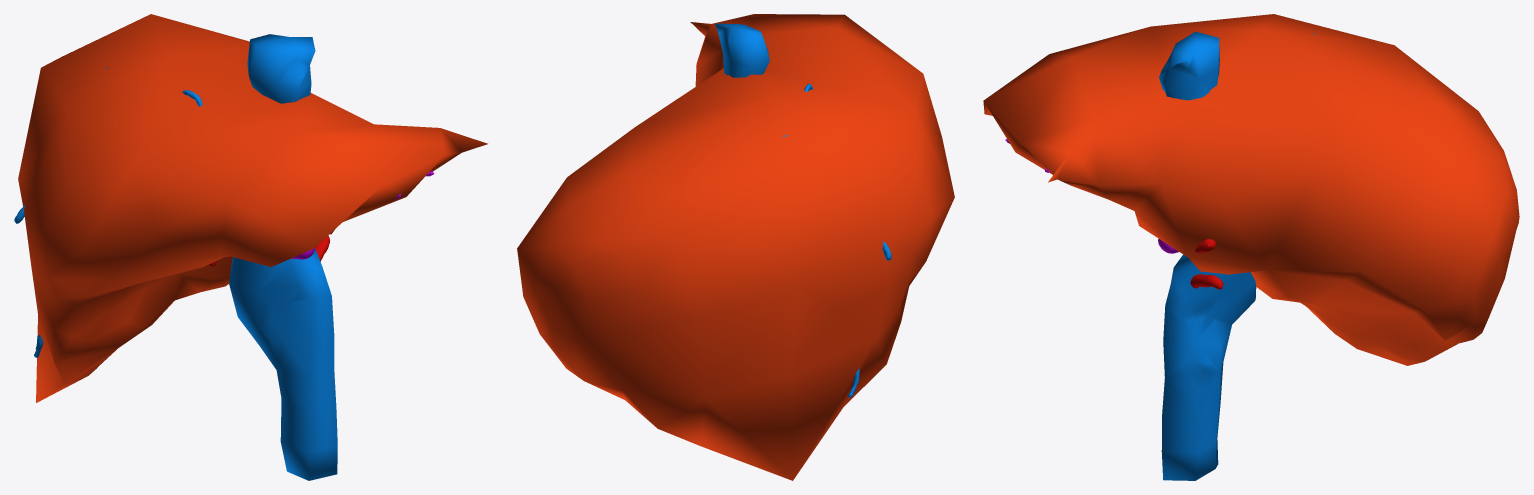
File: cut_Easy_Models_2lowPoly.fbx
3 views of the same model, side by side, from view 1: azimuth 30°, elevation 25°; view 2: azimuth 150°, elevation 25°; view 3: azimuth 270°, elevation 25° (orthographic). The views are drawn at different scales.
Parts seen in each view (by area): view 1: Parenchyma_complex_1, Parenchyma_complex_1.007; view 2: Parenchyma_complex_1, Parenchyma_complex_1.007; view 3: Parenchyma_complex_1, Parenchyma_complex_1.007.
Part boxes in pixels (<box>): Parenchyma_complex_1: <box>18,14,487,402</box>; Parenchyma_complex_1.007: <box>14,34,337,480</box>; Parenchyma_complex_1: <box>517,14,954,480</box>; Parenchyma_complex_1.007: <box>715,23,891,397</box>; Parenchyma_complex_1: <box>983,14,1519,365</box>; Parenchyma_complex_1.007: <box>1159,31,1316,480</box>.
Bounding box in the file's own units: 79.59 × 92.84 × 107.
